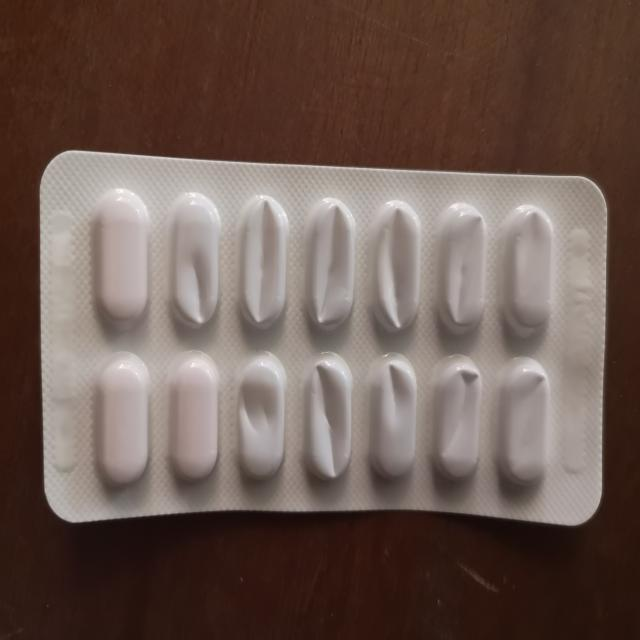Empty: (494, 352, 560, 503), (164, 188, 223, 338), (303, 192, 361, 342), (426, 348, 486, 492), (231, 195, 290, 338), (229, 352, 289, 492), (434, 192, 490, 340), (500, 198, 557, 343), (368, 196, 426, 336), (298, 350, 356, 487), (364, 354, 420, 491)
Pill: (90, 182, 152, 336), (94, 350, 155, 490), (169, 350, 221, 492)
